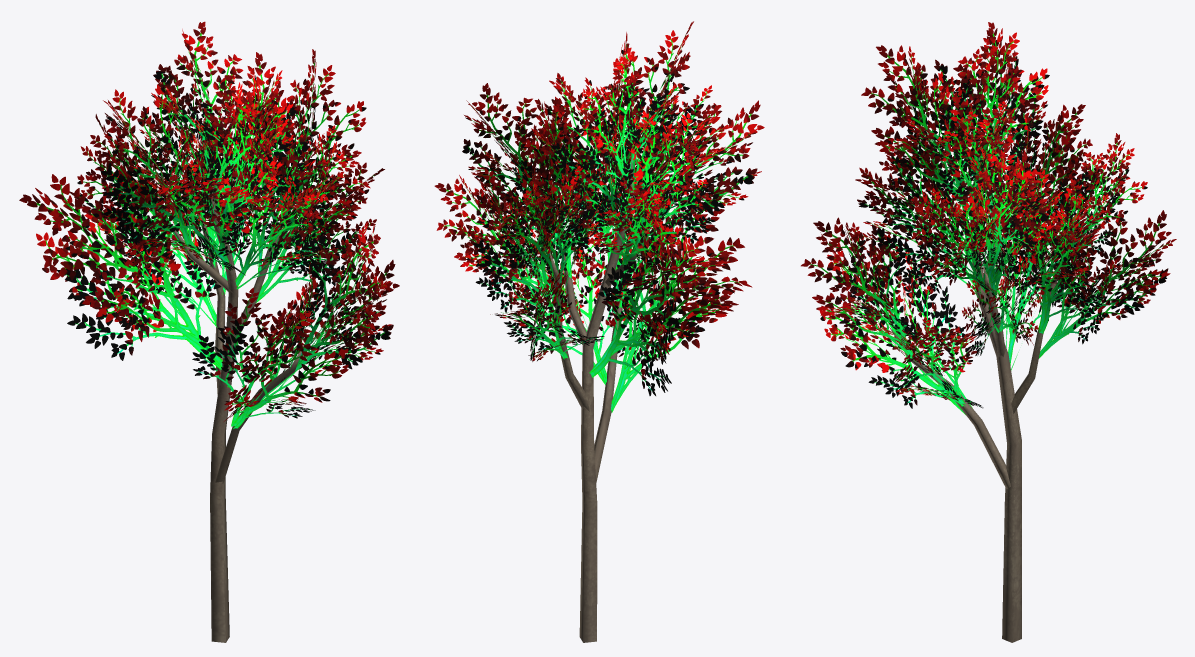
The model's file is SM_Tree_Small_03.fbx.
3 views of the same model, side by side, from view 1: azimuth 30°, elevation 25°; view 2: azimuth 150°, elevation 25°; view 3: azimuth 270°, elevation 25° (orthographic). The views are drawn at different scales.
Parts seen in each view (by area): view 1: SM_Tree_Small_03_LOD0; view 2: SM_Tree_Small_03_LOD0; view 3: SM_Tree_Small_03_LOD0.
Part boxes in pixels (<box>): SM_Tree_Small_03_LOD0: <box>19,21,399,642</box>; SM_Tree_Small_03_LOD0: <box>434,21,764,642</box>; SM_Tree_Small_03_LOD0: <box>801,22,1176,642</box>.
Size of what is drawn, in the model's own units: 279 by 494 by 283.
